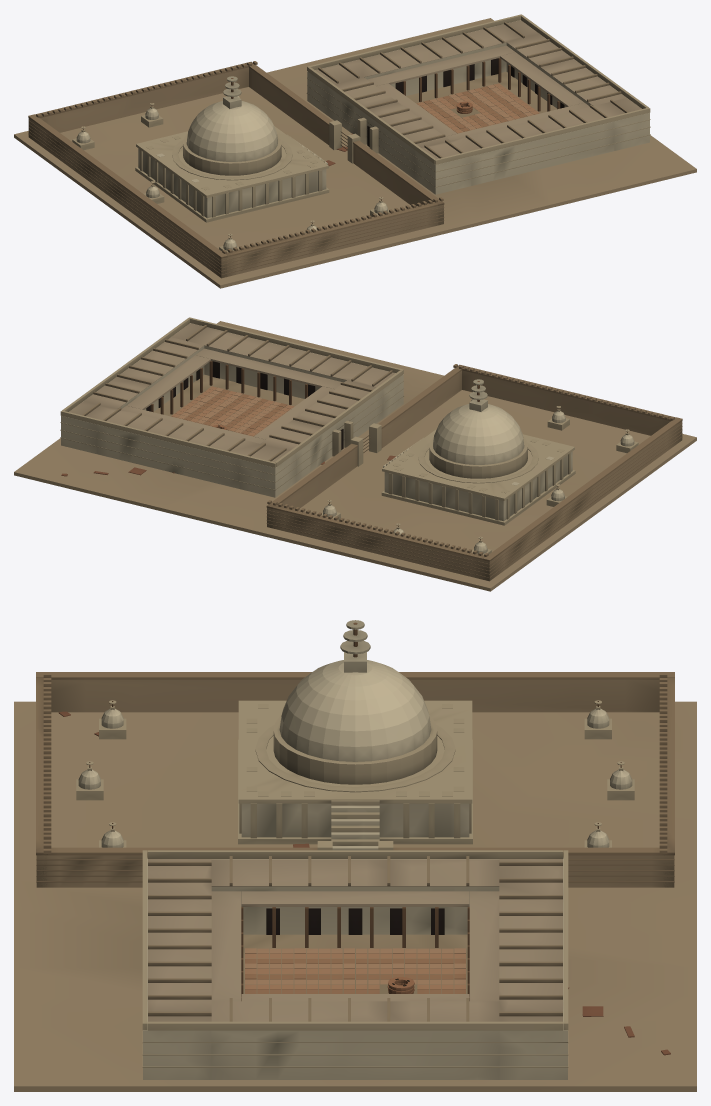
The model's file is stupa.glb.
3 renders of one model, top to bottom at view 1: azimuth 30°, elevation 25°; view 2: azimuth 150°, elevation 25°; view 3: azimuth 270°, elevation 25°, orthographic. The views are drawn at different scales.
Parts seen in each view (by area): view 1: p0_terrace, court and monastery walls, p2_monastery roofs, p1_stupa; view 2: p0_terrace, court and monastery walls, p2_monastery roofs, p1_stupa; view 3: p0_terrace, court and monastery walls, p2_monastery roofs, p1_stupa.
Part boxes in pixels (x1=…): p0_terrace, court and monastery walls: x1=14, y1=18, x2=696, y2=288; p2_monastery roofs: x1=307, y1=14, x2=650, y2=164; p1_stupa: x1=72, y1=76, x2=389, y2=252; p0_terrace, court and monastery walls: x1=14, y1=321, x2=696, y2=591; p2_monastery roofs: x1=60, y1=317, x2=403, y2=467; p1_stupa: x1=321, y1=379, x2=638, y2=555; p0_terrace, court and monastery walls: x1=14, y1=672, x2=696, y2=1091; p2_monastery roofs: x1=142, y1=850, x2=568, y2=1030; p1_stupa: x1=76, y1=620, x2=634, y2=847.
Size of the model in its own units: 60 by 12.82 by 45.
